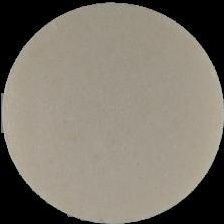0378-0141: (0, 0, 224, 224)
